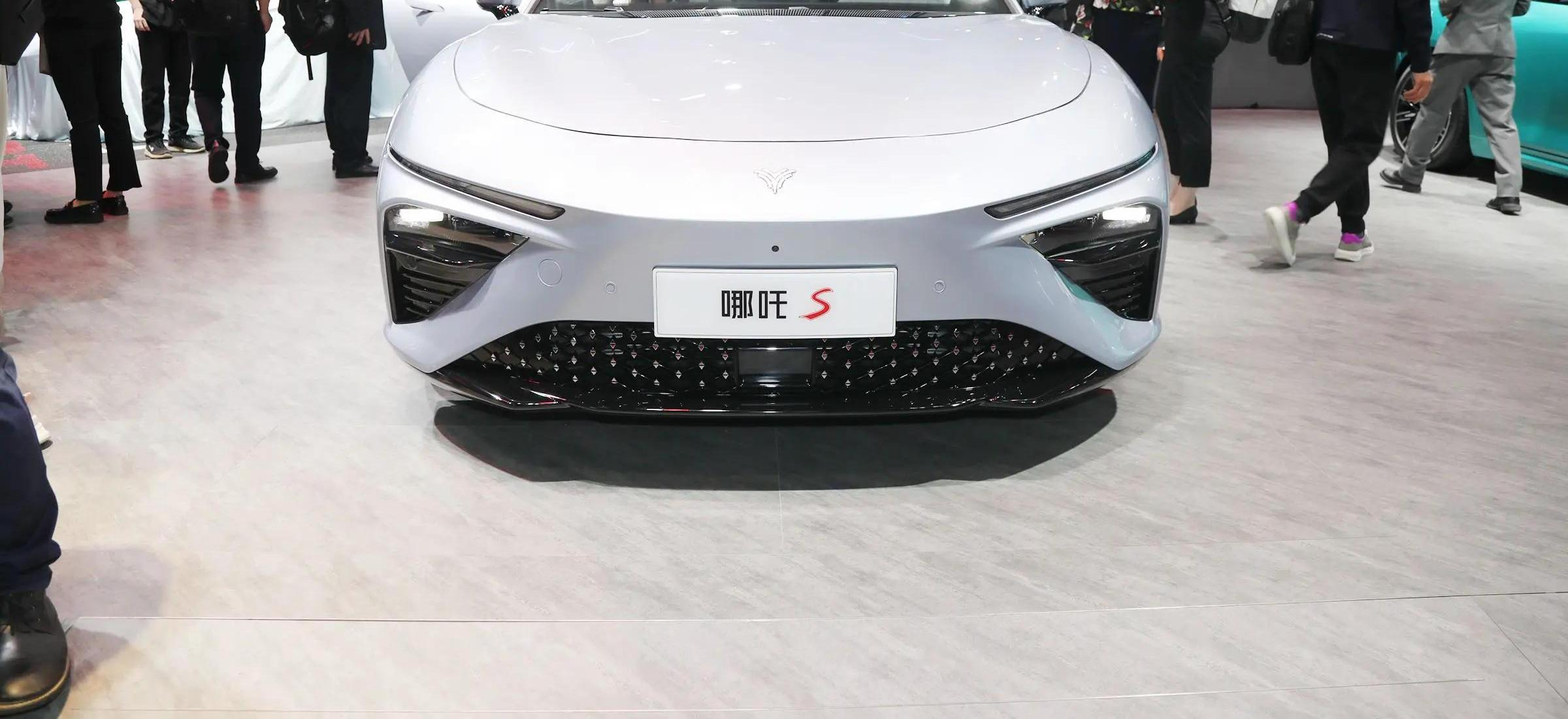NETA: (753, 165, 797, 195)
